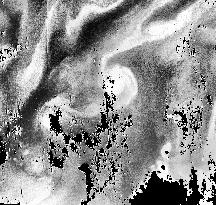CE: (93, 61, 137, 103)
